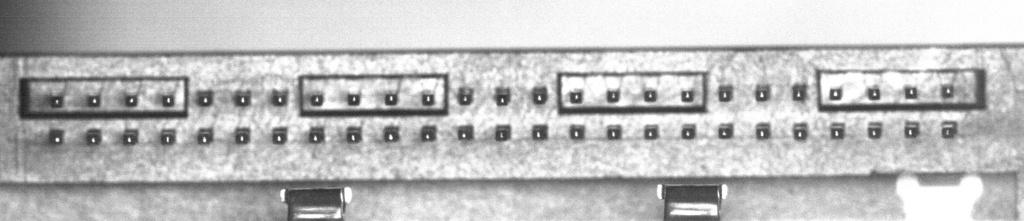pin_ok: (494, 86, 511, 105), (457, 86, 474, 105), (755, 121, 772, 139), (829, 121, 846, 139), (234, 89, 252, 106), (904, 121, 921, 138), (196, 89, 213, 106), (85, 128, 102, 145), (48, 127, 65, 144), (941, 120, 957, 138), (532, 86, 548, 104), (420, 125, 437, 141), (531, 124, 548, 140), (494, 125, 511, 141), (308, 127, 325, 143), (867, 121, 883, 138), (234, 127, 250, 144), (271, 127, 287, 144), (345, 127, 362, 143), (271, 89, 287, 106), (457, 124, 473, 140), (569, 124, 585, 140), (643, 124, 659, 140), (717, 123, 733, 139), (197, 128, 213, 144), (160, 129, 176, 145), (383, 126, 399, 142), (792, 84, 807, 101), (793, 123, 808, 140), (606, 124, 622, 139), (718, 85, 733, 101), (755, 85, 770, 101), (681, 124, 696, 139), (123, 129, 138, 144), (568, 89, 583, 104), (680, 88, 695, 102), (941, 84, 955, 98), (606, 88, 620, 102), (643, 88, 657, 102), (421, 91, 435, 105), (867, 86, 881, 100), (828, 87, 843, 100), (309, 93, 324, 106), (347, 92, 360, 106), (161, 94, 175, 107), (905, 85, 918, 99), (384, 92, 398, 105), (125, 94, 138, 107), (50, 95, 63, 108), (87, 95, 100, 107)
